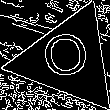O_S: (41, 31, 94, 88)
